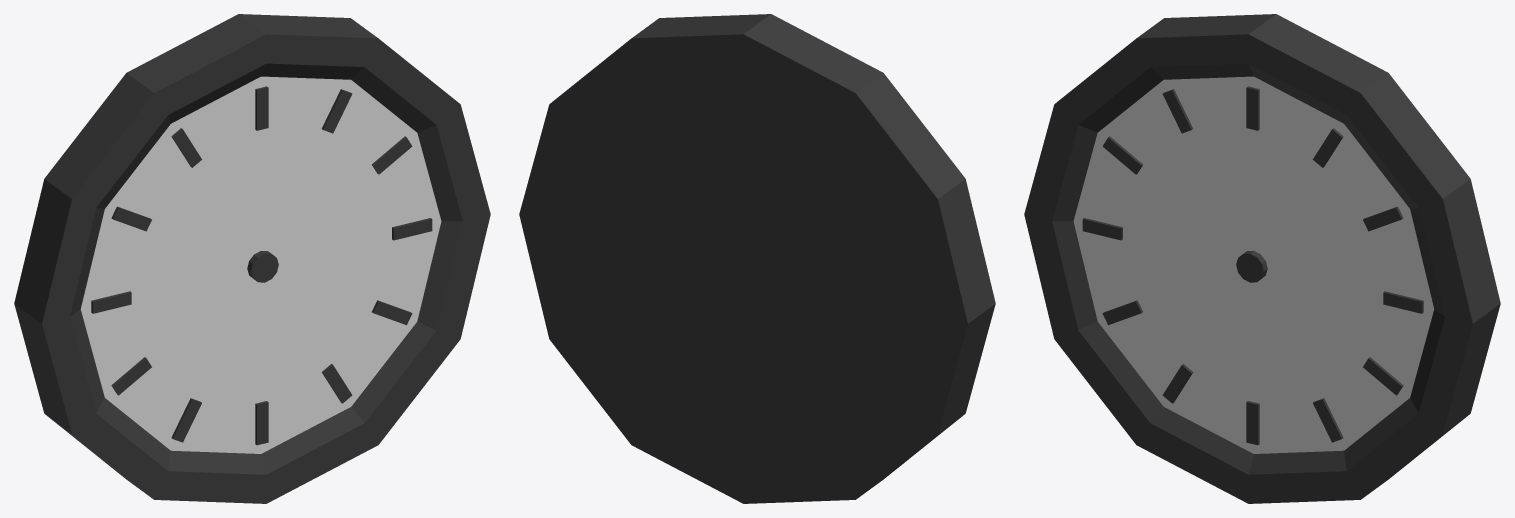
The model's file is Clock1_C1.fbx.
3 views of the same model, side by side, from view 1: azimuth 30°, elevation 25°; view 2: azimuth 150°, elevation 25°; view 3: azimuth 330°, elevation 25° (orthographic).
Visible parts, largest first — view 1: Clock1_C1; view 2: Clock1_C1; view 3: Clock1_C1.
Part boxes in pixels (x1,y1,x2,y2): Clock1_C1: [14, 14, 490, 503]; Clock1_C1: [519, 14, 995, 503]; Clock1_C1: [1024, 14, 1500, 503].
Size of the model in its own units: 29.02 by 29.02 by 3.12.
